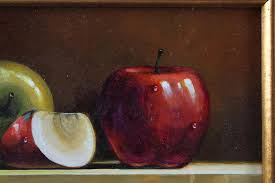apple: (102, 69, 211, 173)
damaged_apple: (8, 110, 99, 174)
